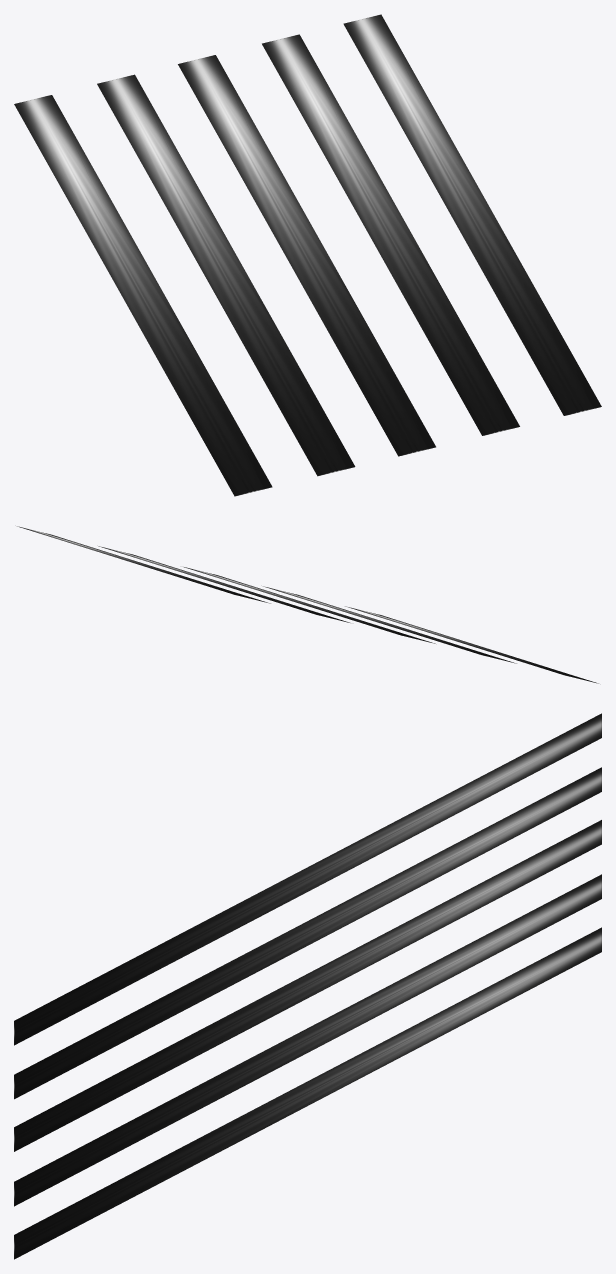
The model's file is Final_Godrays.fbx.
3 renders of one model, top to bottom at view 1: azimuth 30°, elevation 25°; view 2: azimuth 150°, elevation 25°; view 3: azimuth 270°, elevation 25°, orthographic. The views are drawn at different scales.
Parts seen in each view (by area): view 1: pPlane10; view 2: pPlane10; view 3: pPlane10.
Boxes of the visible parts, box(x1,y1,x2,y2) form: pPlane10: box(14, 14, 601, 496); pPlane10: box(17, 526, 598, 683); pPlane10: box(14, 713, 601, 1259).
Size of the model in its own units: 117 by 70.45 by 122.
Materials: 1 (1 with a texture image).
